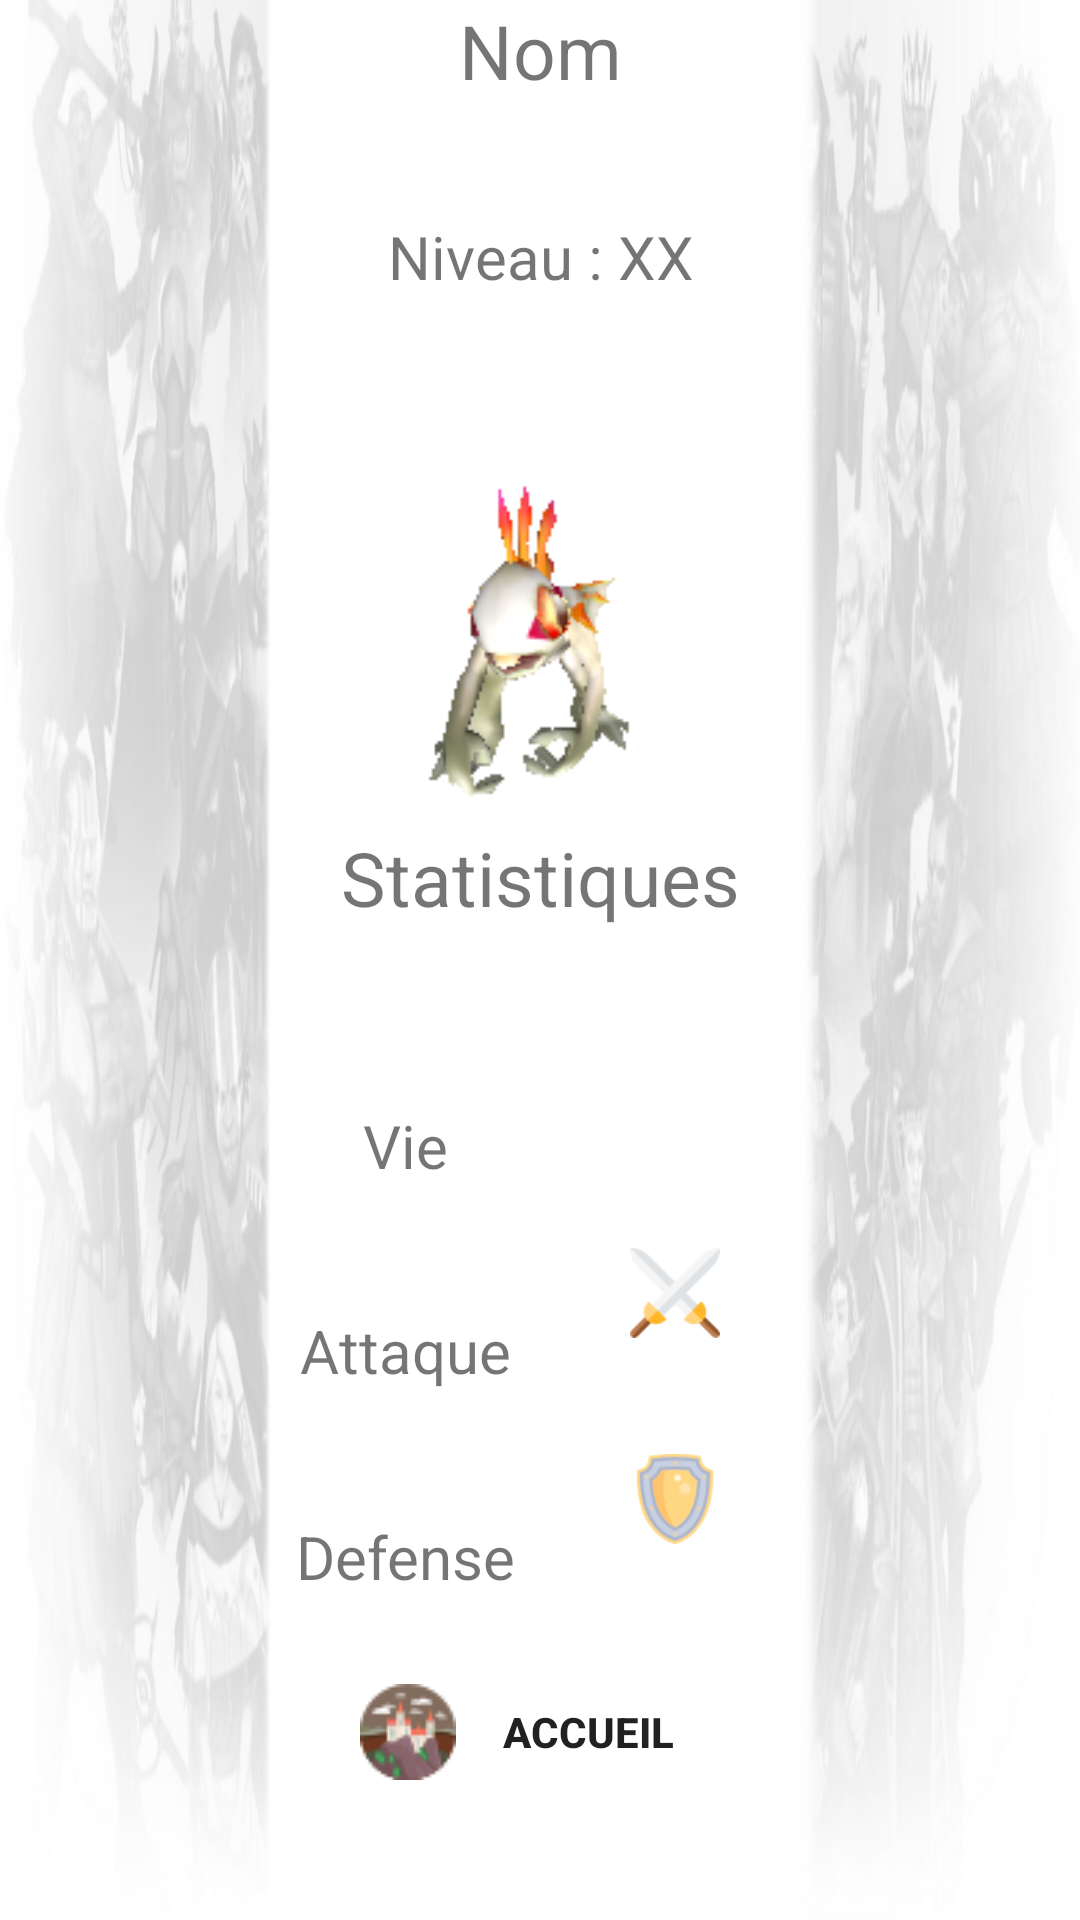

Screen size 1080px x 1920px. Icon name, then its box in pixels as box=[x1, y1, x2, y2]:
swords: box=[630, 1248, 720, 1338]
